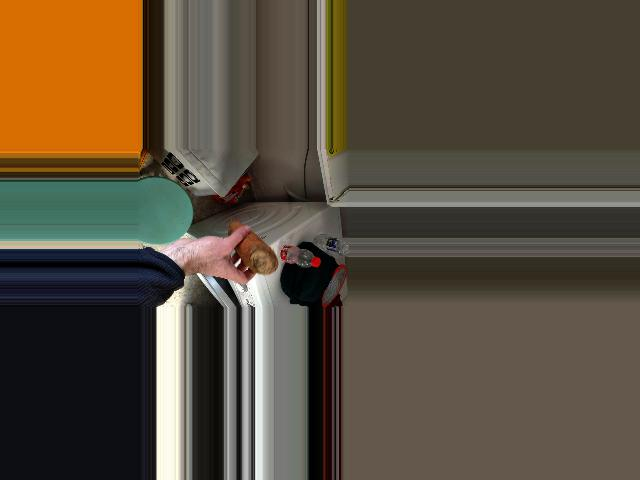sweet_potato: (228, 216, 276, 279)
